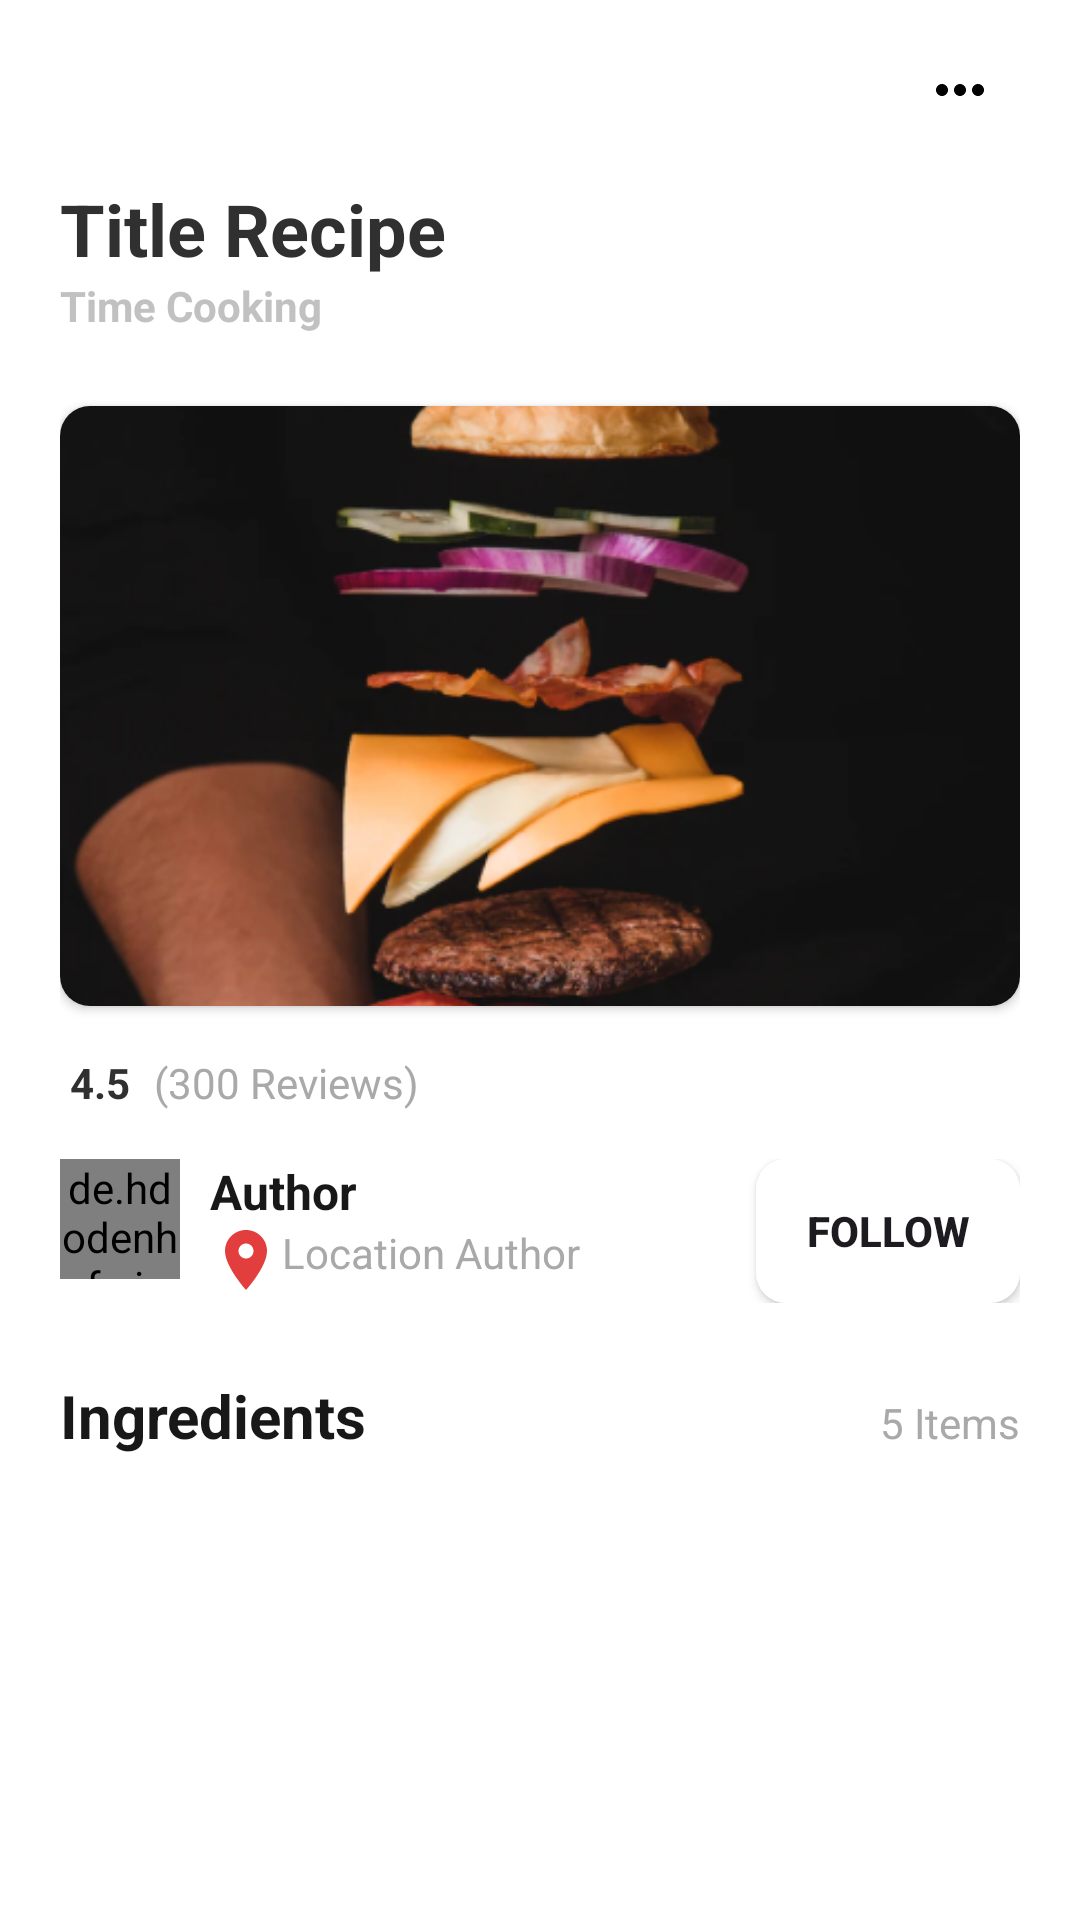

Where to tap for icons on this 1080*1920 app screen, as (x,y):
icon more: (960,90)
